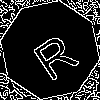R: (25, 25, 81, 83)
